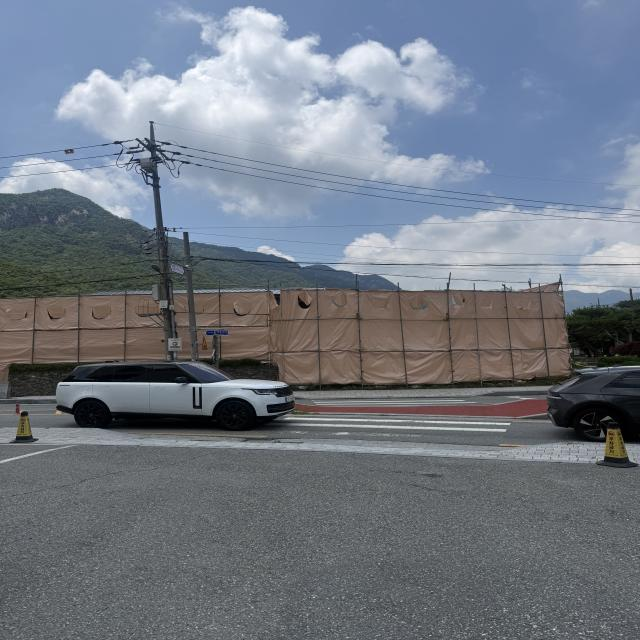car: (51, 350, 305, 435), (538, 359, 640, 445)
